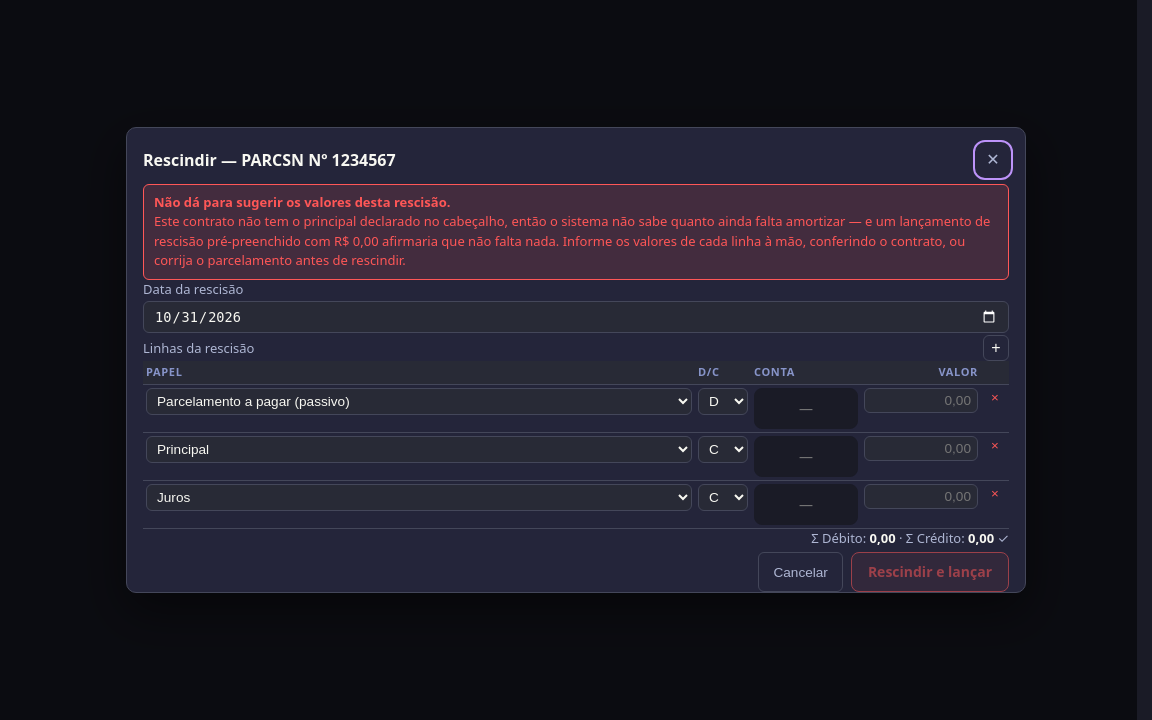
Test: ⚠ o rodapé deixou de carimbar ✓ sobre uma soma incompleta › com campo ilegível o rodapé diz que a soma está incompleta, sem ✓
Type "12.000" into the 1st field with placeholder "0,00" at [921, 400], box [864,388,978,413]
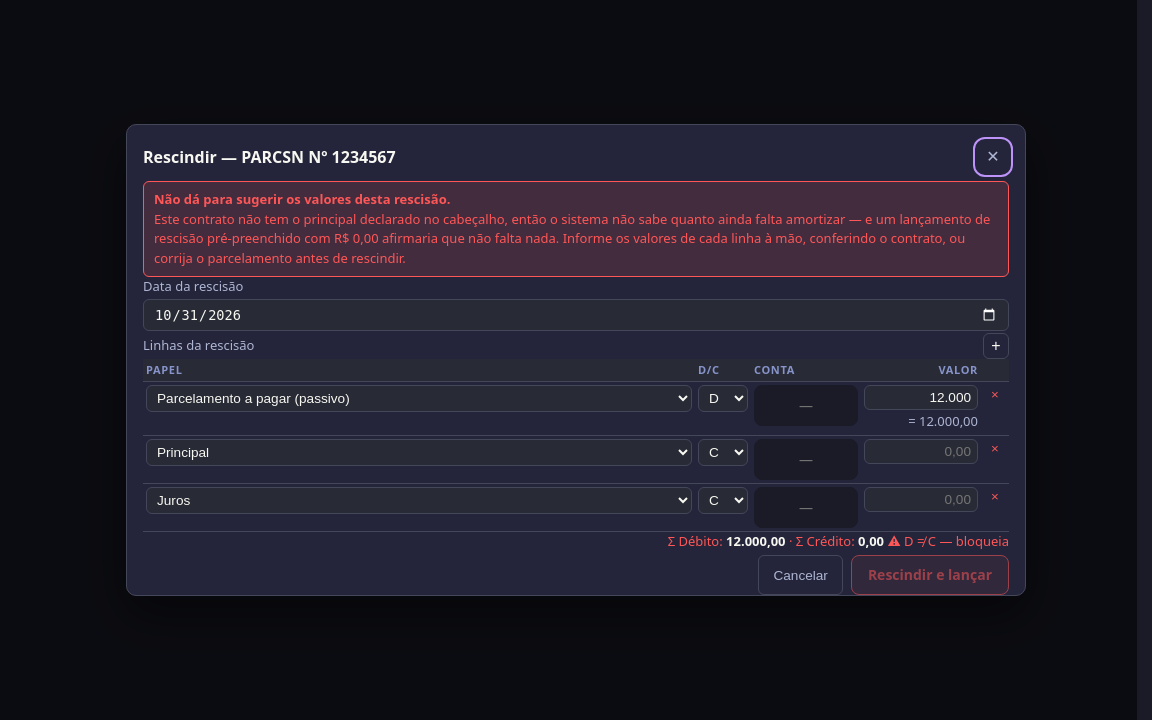
Type "10.000" into the 1st field with placeholder "0,00" at [921, 451], box [864,438,978,464]
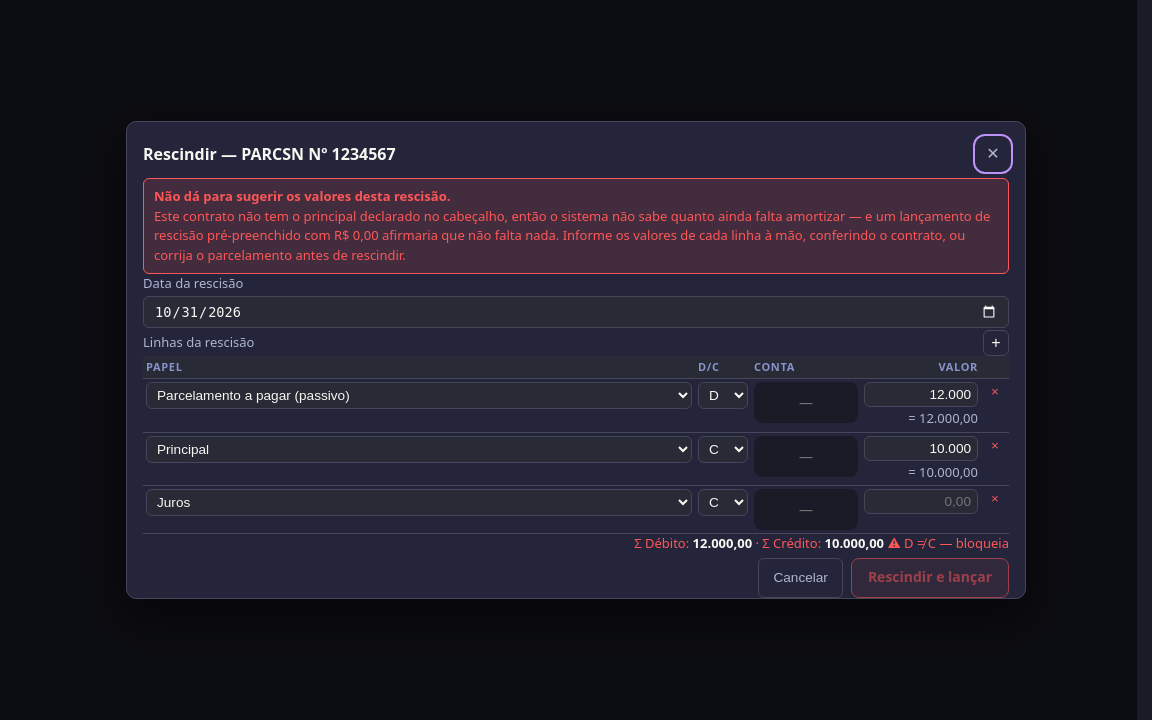
Type "2.000" into the field with placeholder "0,00" at [921, 502], box [864,489,978,514]
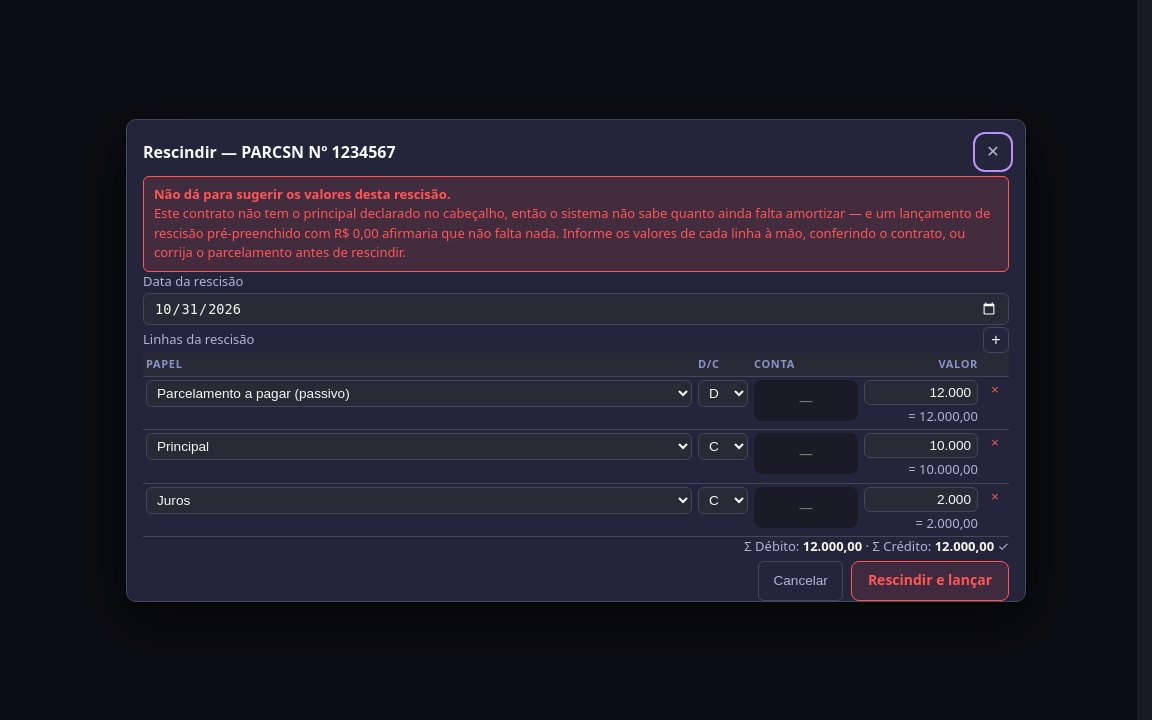
Replace the text in the field named "Valor — Juros" with "1.23.4" at [921, 499], box [864,486,978,512]
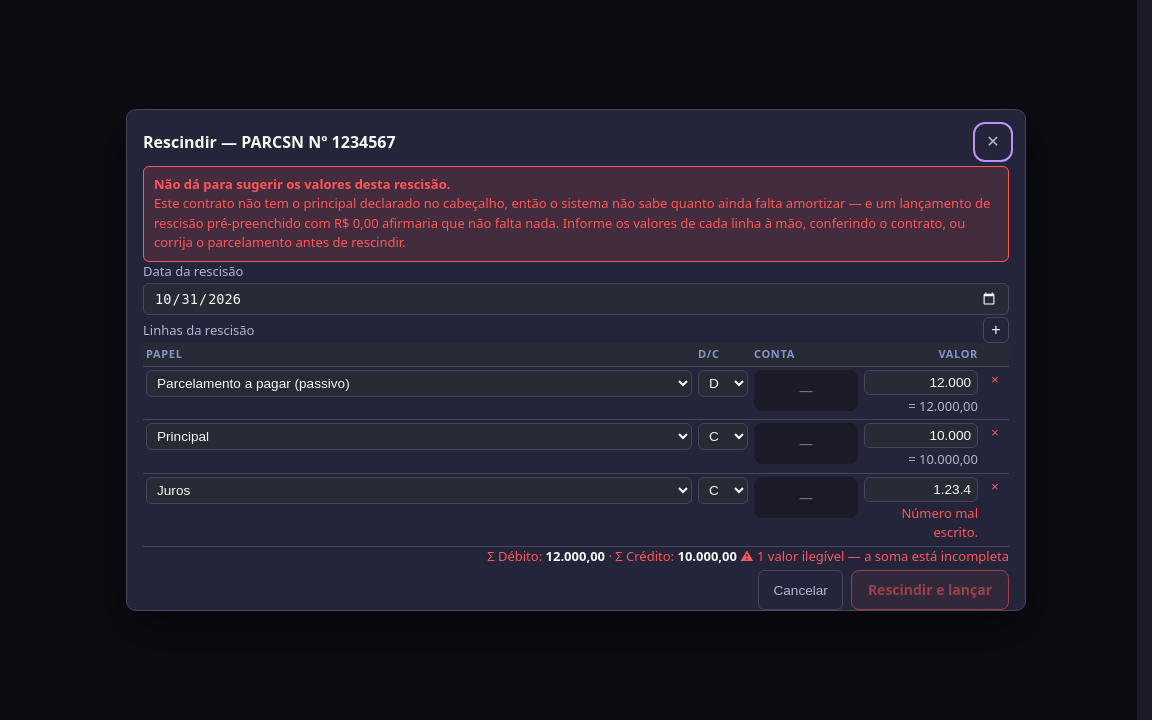
Check: the text "Σ Débito" shows "ilegível", box [737,547,1009,565]
Check: the text "Σ Débito" no longer shows "✓", box [487,547,1009,565]
